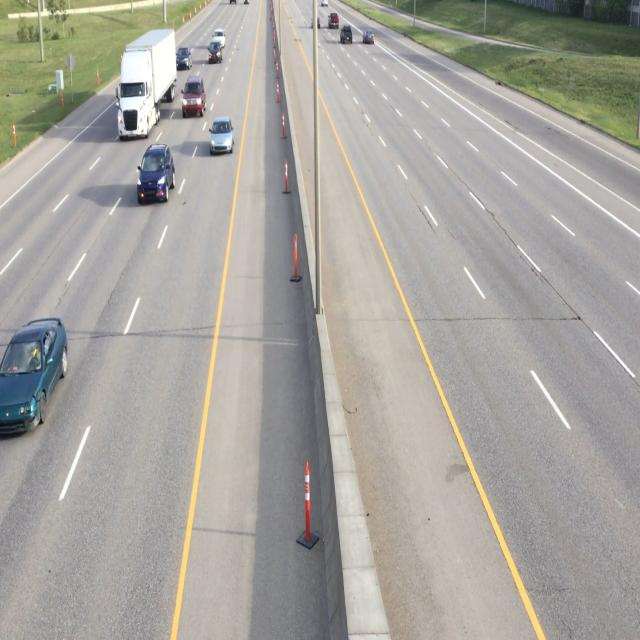Car: (0, 318, 69, 440), (116, 26, 177, 143), (136, 142, 177, 212), (179, 75, 208, 119), (210, 117, 236, 157), (208, 41, 223, 64), (340, 23, 354, 46), (364, 28, 376, 48)
